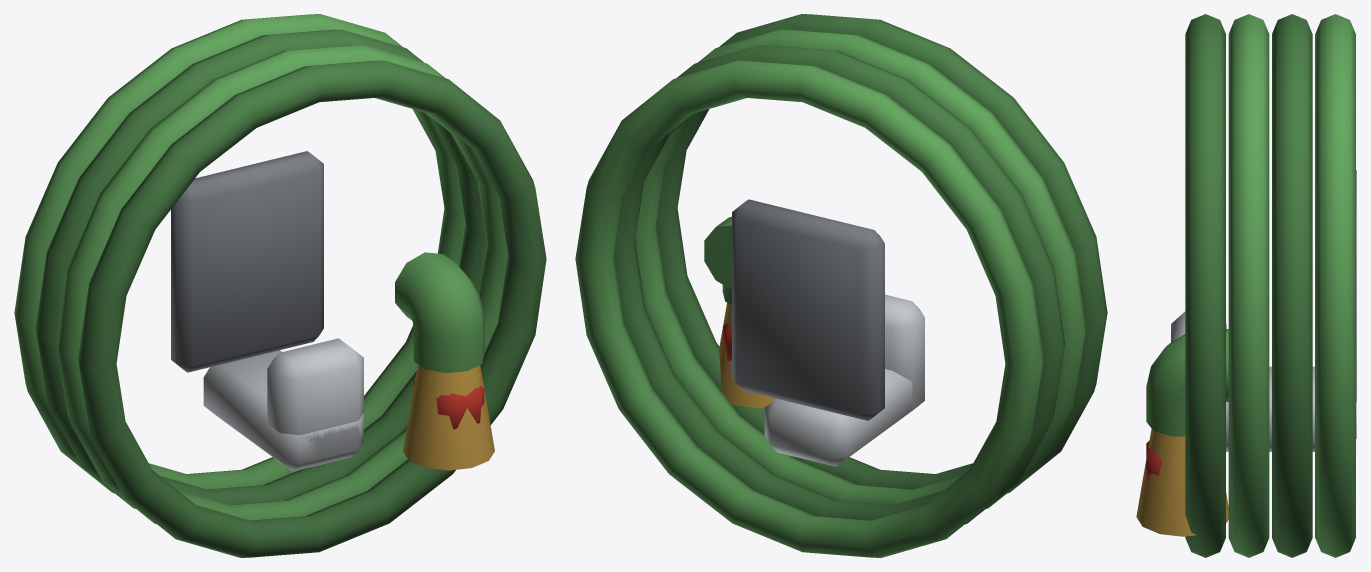
File: SM_HoseHanger_Garden_01.glb
3 renders of one model, left to right at view 1: azimuth 30°, elevation 25°; view 2: azimuth 150°, elevation 25°; view 3: azimuth 270°, elevation 25°, orthographic. The views are drawn at different scales.
Parts seen in each view (by area): view 1: SM_HoseHanger_Garden_01; view 2: SM_HoseHanger_Garden_01; view 3: SM_HoseHanger_Garden_01.
Boxes of the visible parts, x1,y1,x2,y2 form: SM_HoseHanger_Garden_01: (14,14,546,557); SM_HoseHanger_Garden_01: (575,14,1107,557); SM_HoseHanger_Garden_01: (1136,14,1356,557).
Size of the model in its own units: 0.443 by 0.443 by 0.178.
1 material, 1 textured.
